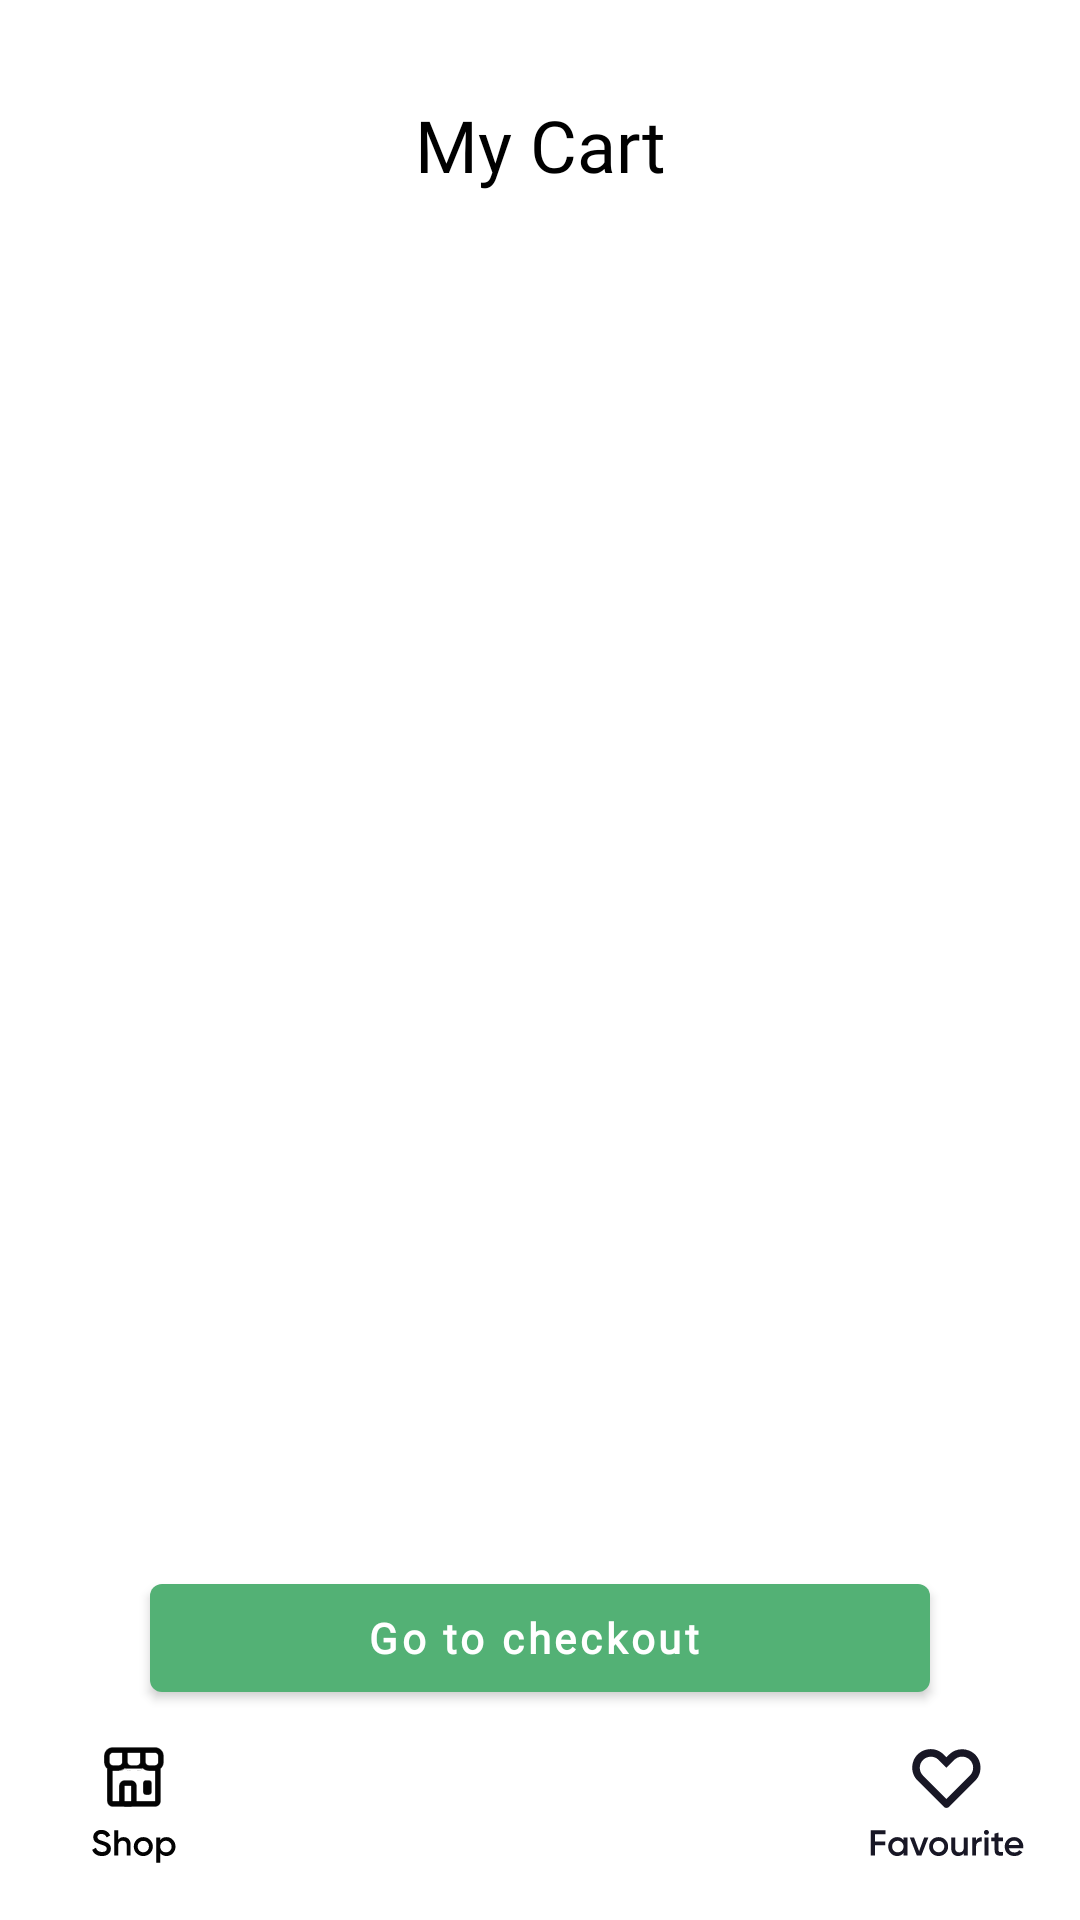

Screen size 1080w x 1920h. Icon name, then its box in pixels as [x1,y1,x2,y2]:
heart: [870,1749,1024,1856]
